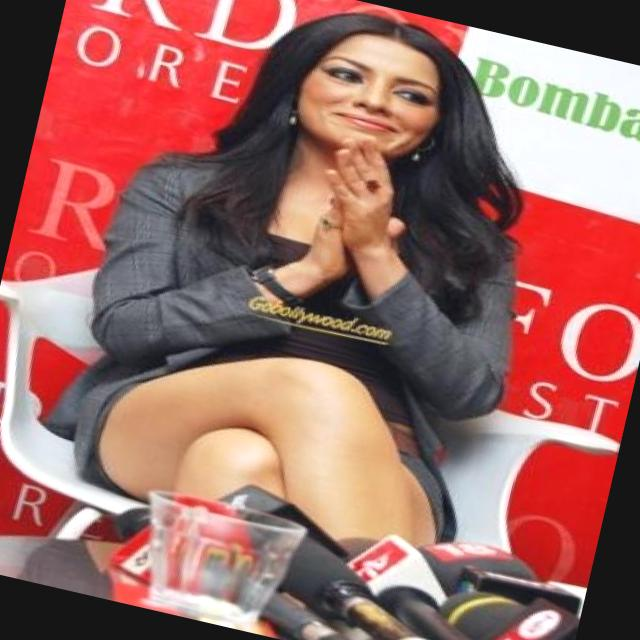no_vest: (85, 103, 553, 404)
